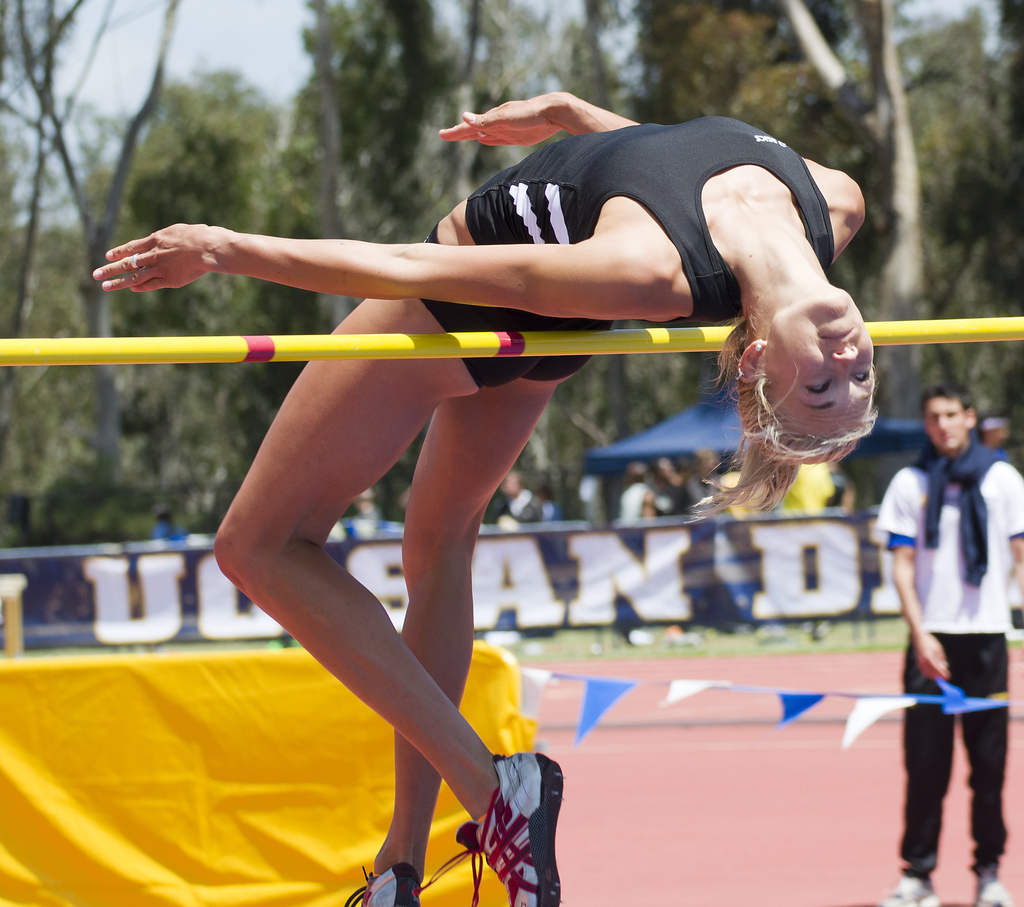Person: (89, 89, 888, 907)
